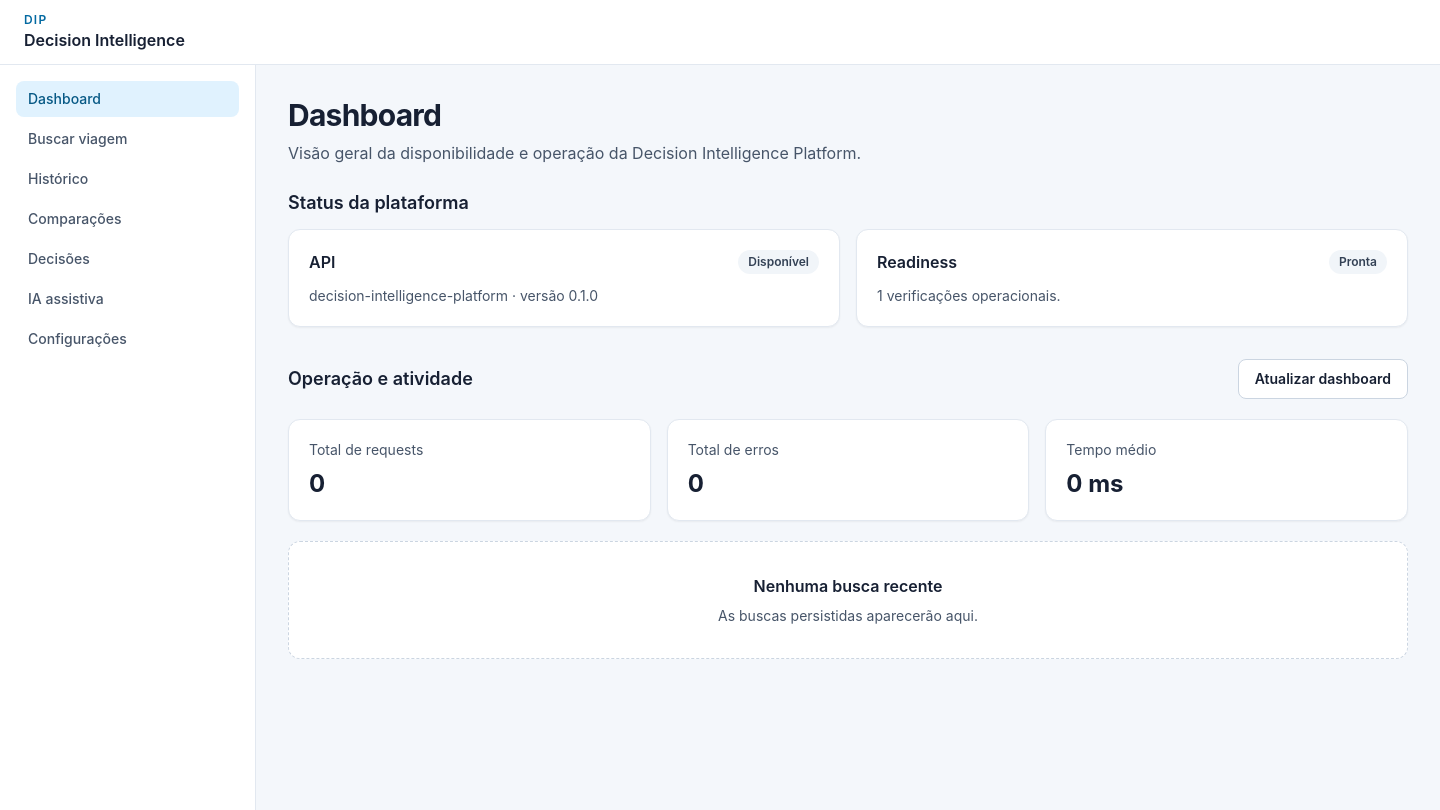
Test: navega entre páginas
The image size is (1440, 810).
What coordinates should you click on to do the following:
click the link "Histórico"
I would click on:
 (58, 178)
Its box is [28,170,88,187].
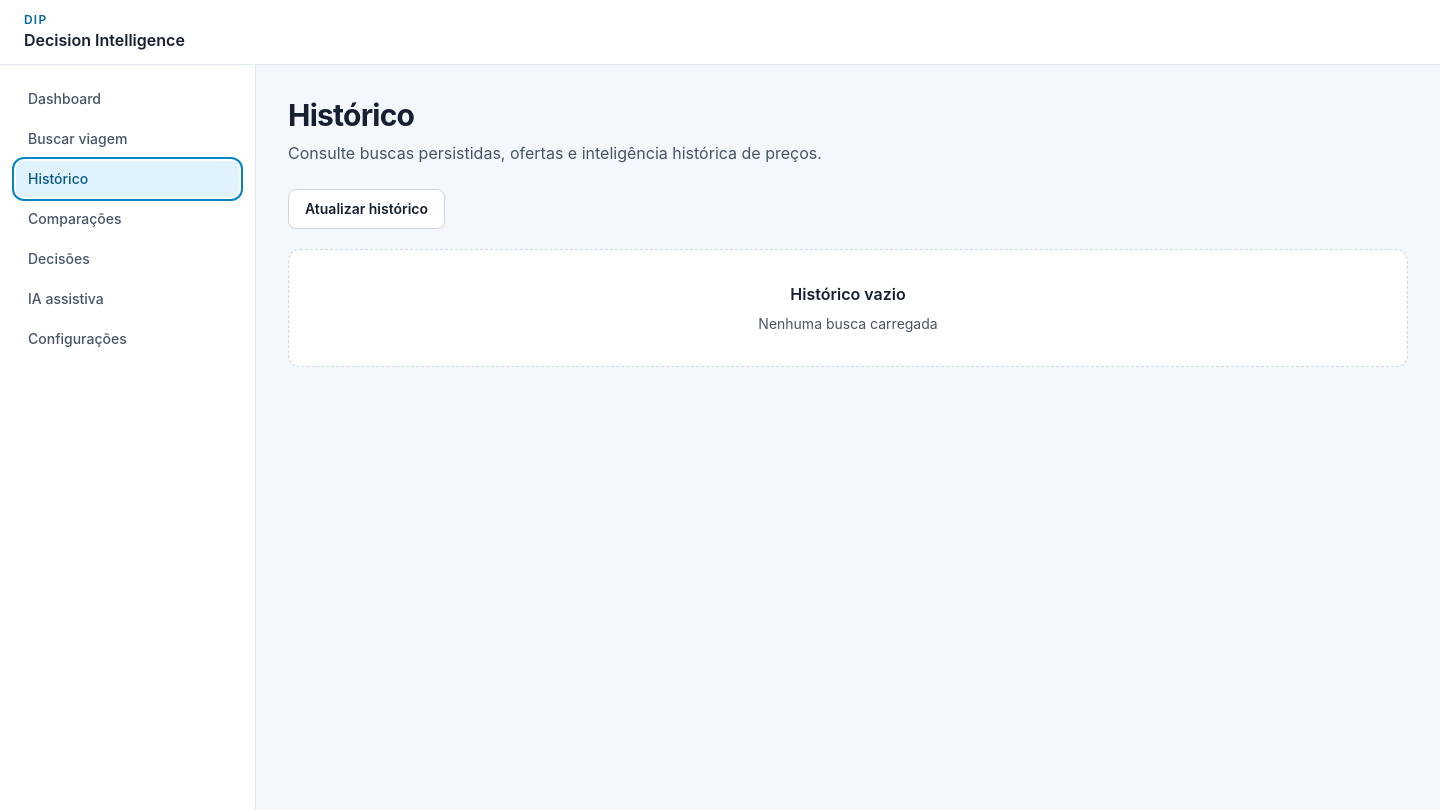
Check: the heading "Histórico" is shown, box [288,97,414,133]
Check: the text "Nenhuma busca carregada" is shown, box [758,315,938,332]
